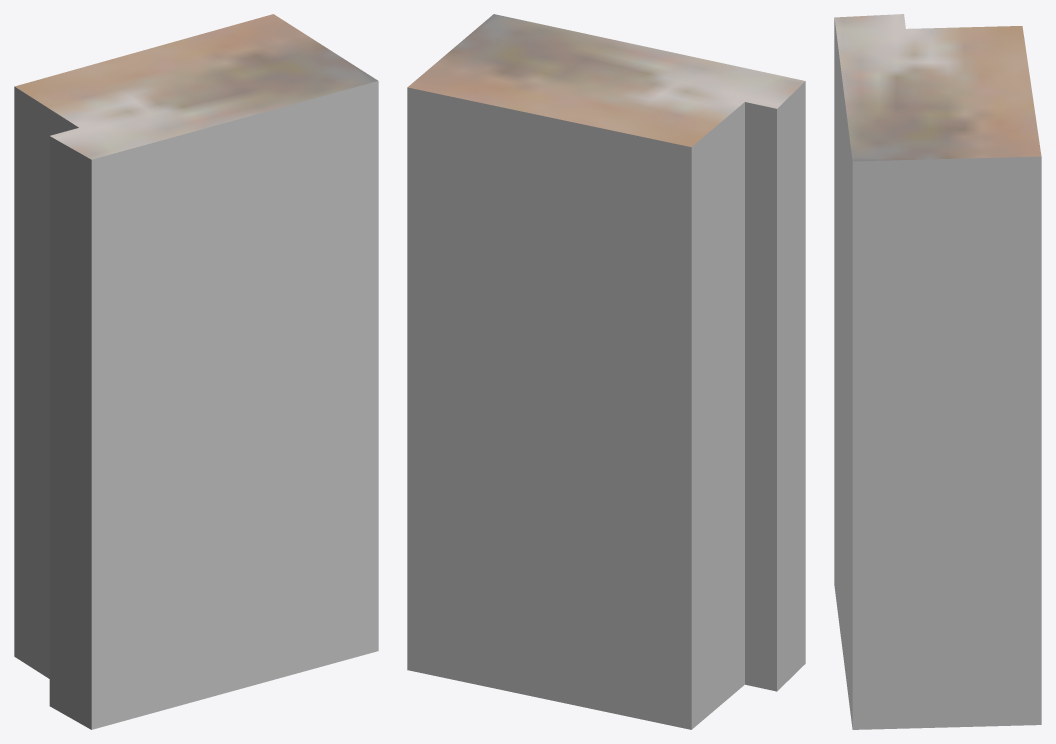
File: DEBW_0010007THYM.gltf
3 renders of one model, left to right at view 1: azimuth 30°, elevation 25°; view 2: azimuth 150°, elevation 25°; view 3: azimuth 270°, elevation 25°, orthographic. The views are drawn at different scales.
Visible parts, largest first — view 1: Z_UP; view 2: Z_UP; view 3: Z_UP.
Boxes of the visible parts, box(x1,y1,x2,y2) form: Z_UP: box(14, 14, 378, 729); Z_UP: box(407, 14, 805, 729); Z_UP: box(834, 14, 1041, 729).
Size of the model in its own units: 3.86 by 6.94 by 2.29.
2 materials, 1 textured.
